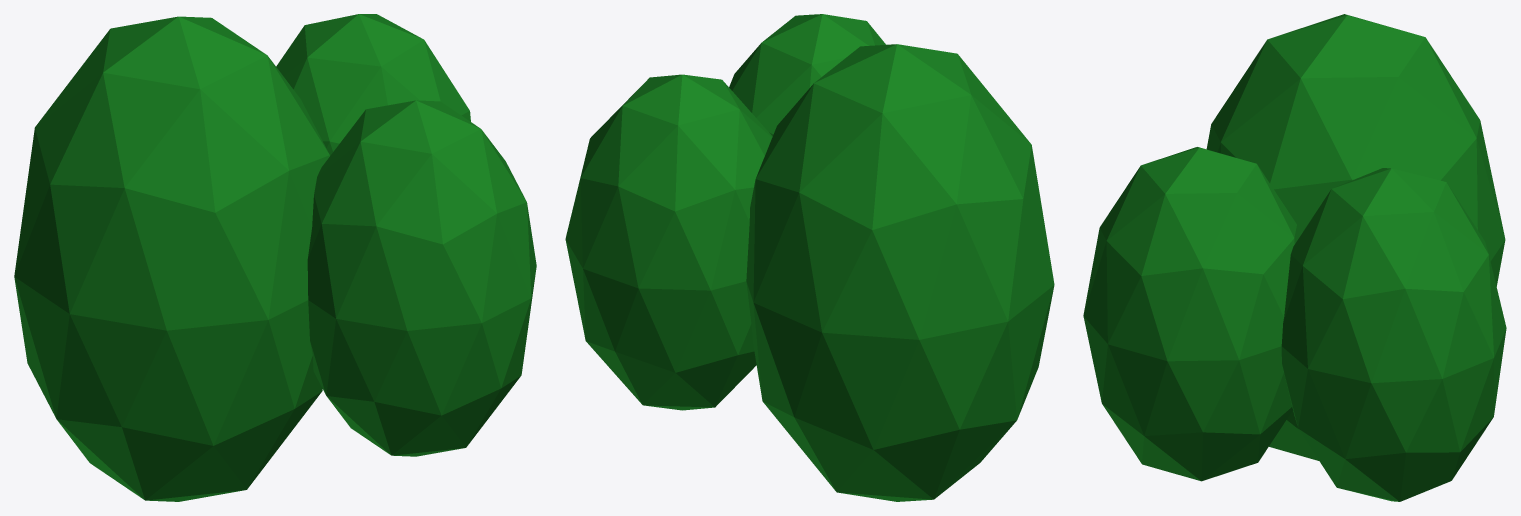
Rendered from blockout1.treecluster8.fbx.
3 renders of one model, left to right at view 1: azimuth 30°, elevation 25°; view 2: azimuth 150°, elevation 25°; view 3: azimuth 270°, elevation 25°, orthographic. The views are drawn at different scales.
Parts seen in each view (by area): view 1: Icosphere.006; view 2: Icosphere.006; view 3: Icosphere.006.
Part boxes in pixels (x1,y1,x2,y2): Icosphere.006: (14,14,536,501); Icosphere.006: (565,14,1054,501); Icosphere.006: (1083,14,1506,501).
Bounding box in the file's own units: 514 × 529 × 448.
